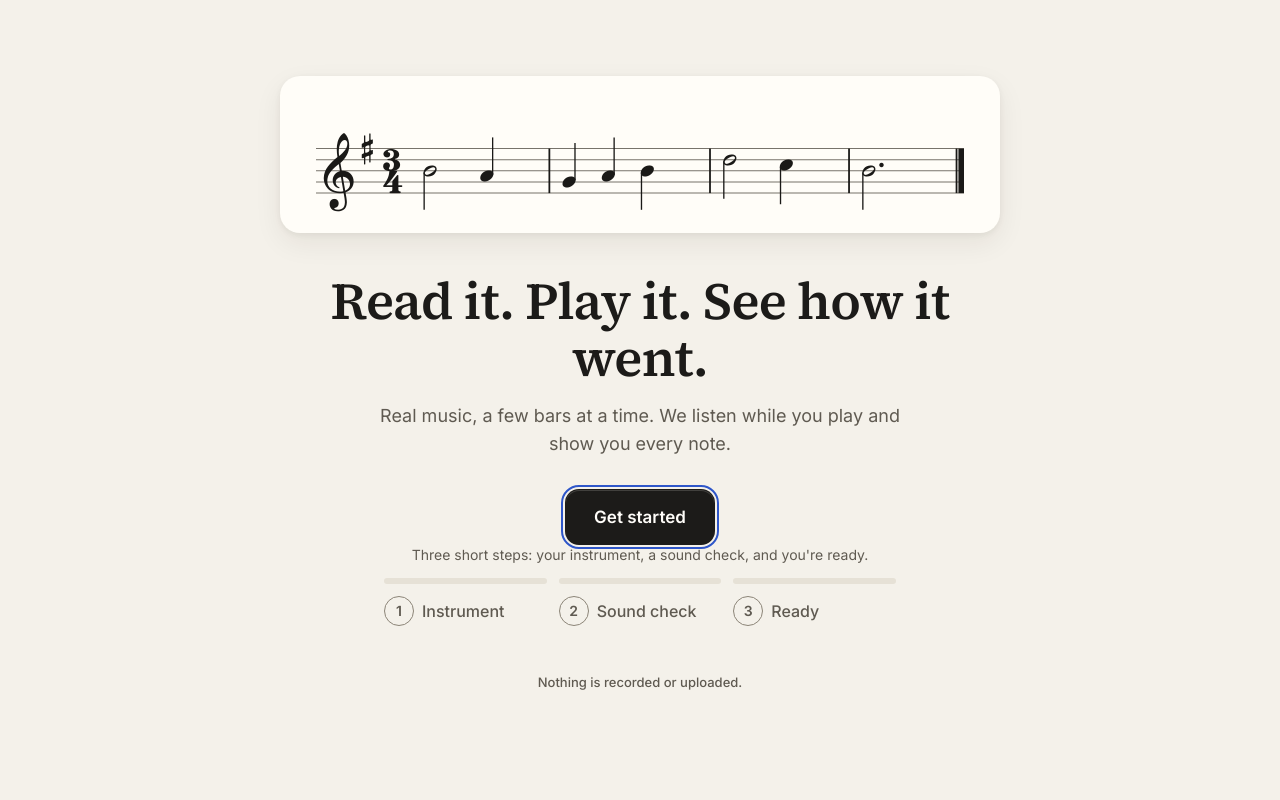
it: OnboardingScreen › walks Welcome, Instrument, Sound check (Microphone, Hear you, Timing) and Ready, and starts the first piece
Later steps or results of the test are not shown.
Click the button "Get started".
click(640, 518)  # box [565,490,715,546]
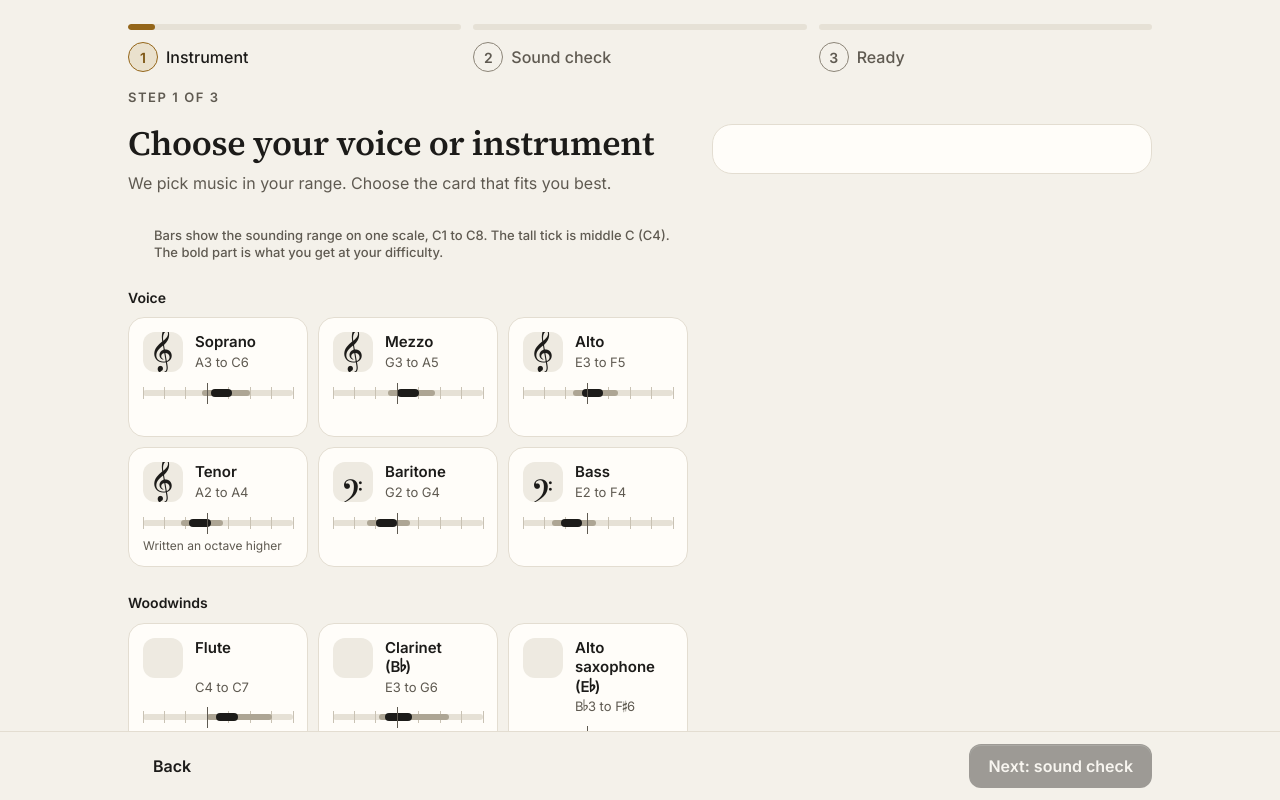
expect the list item "1 Instrument" is shown: met, box [128,24,461,72]
expect the text "Step 1 of 3" is shown: met, box [128,89,220,105]
expect the text "Choose your voice or instrument" is shown: met, box [128,124,688,163]
Click the radio button labelled "Baritone G2 to G4".
click(408, 507)  # box [318,447,498,567]
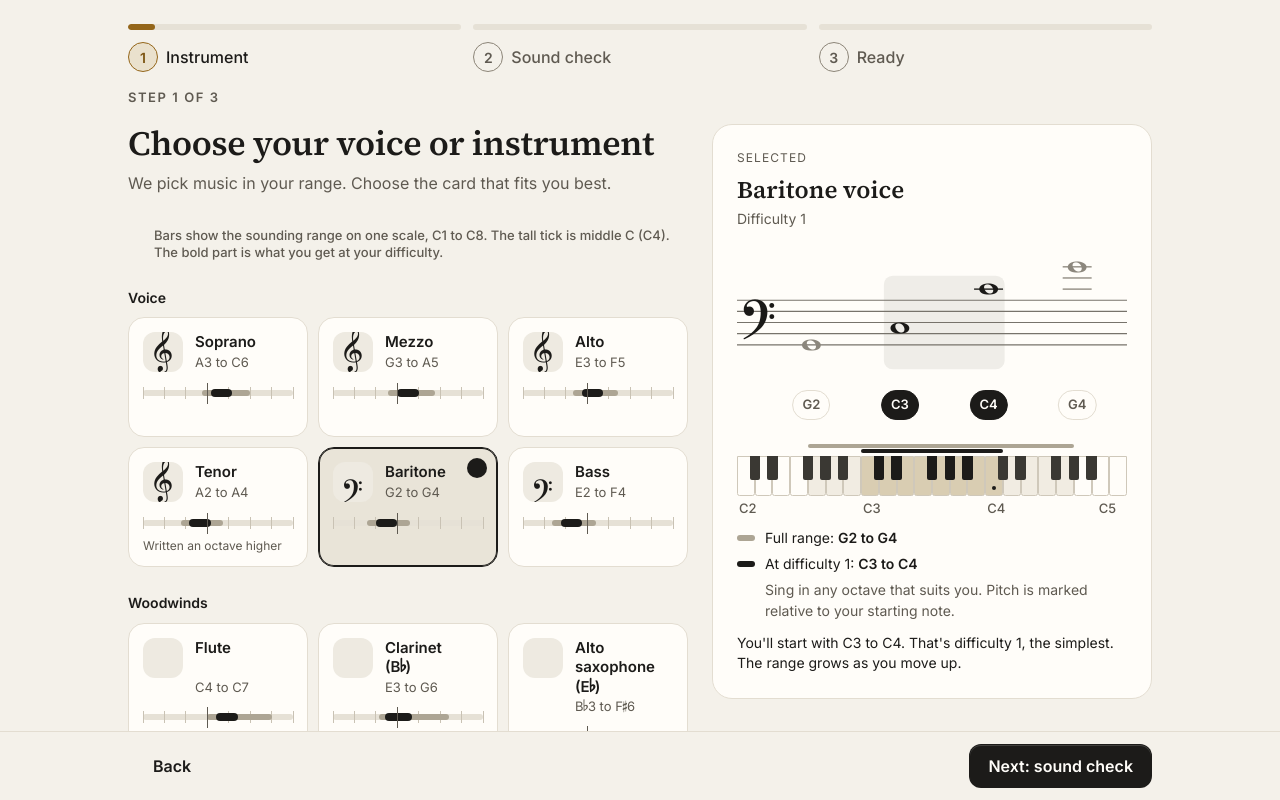
expect the button "Next: sound check" is shown: met
expect the text with test id "ob-start-line" shows "You'll start with C3 to C4. That's difficulty 1, the simplest. The range grows as you move up.": met, box [737,634,1114,671]
Click the button "Next: sound check".
click(1061, 766)  # box [969,744,1152,788]
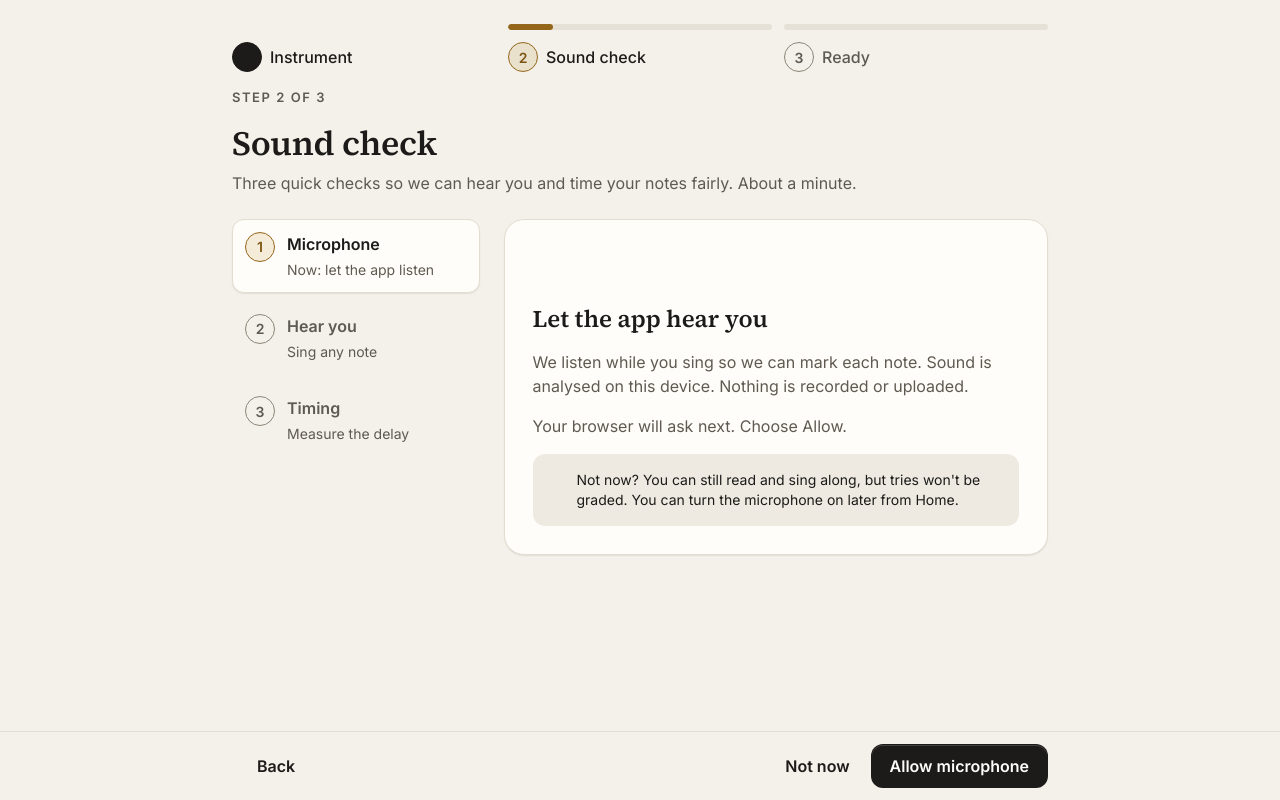
expect the text "Step 2 of 3" is shown: met, box [232,89,326,105]
expect the text "Your browser will ask next. Choose Allow." is shown: met, box [532,416,847,436]
expect the button "Allow microphone" is shown: met
Click the button "Allow microphone".
click(959, 766)  # box [871,744,1048,788]
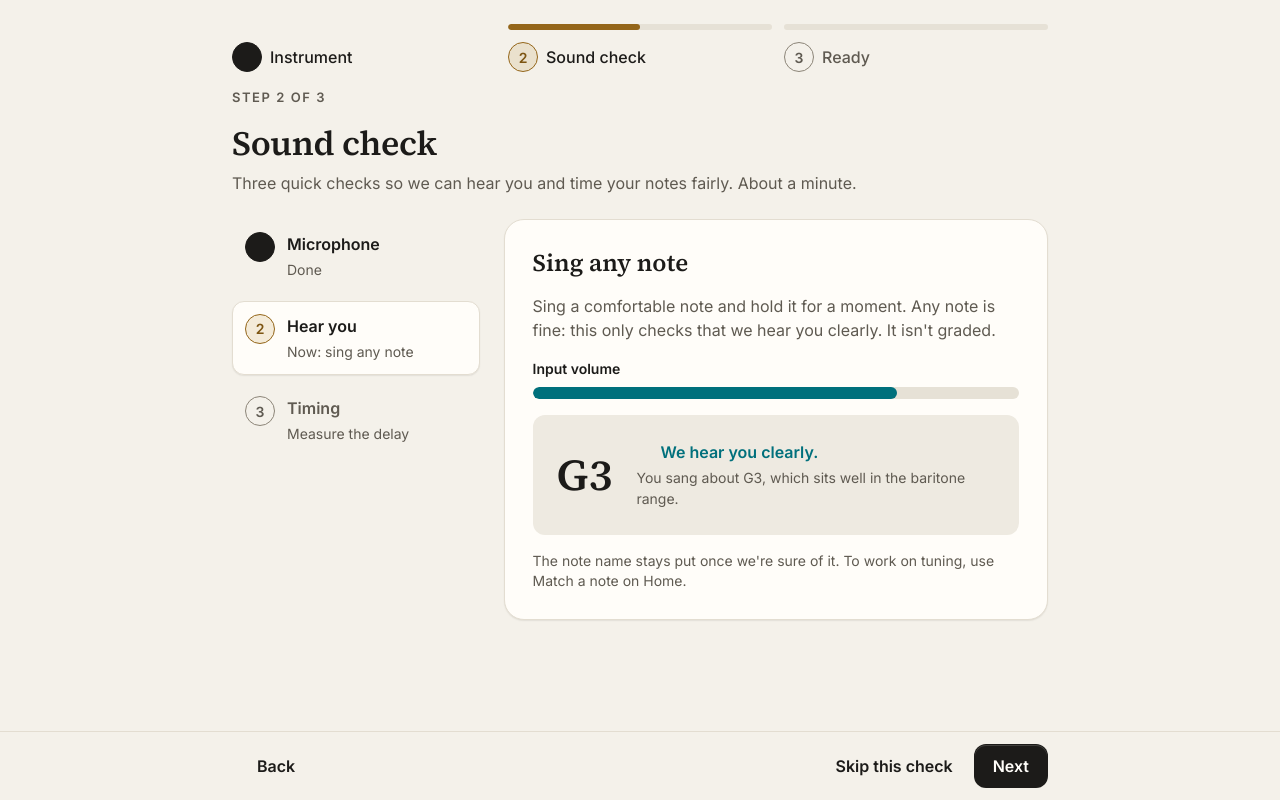
expect the text "sing any note" is shown: met, box [287,343,414,360]
expect the text with test id "ob-heard-note" reads "G3": met, box [556,444,612,505]
expect the text "We hear you clearly." is shown: met, box [532,296,996,340]
Click the button "Next".
click(1011, 766)  # box [974,744,1048,788]
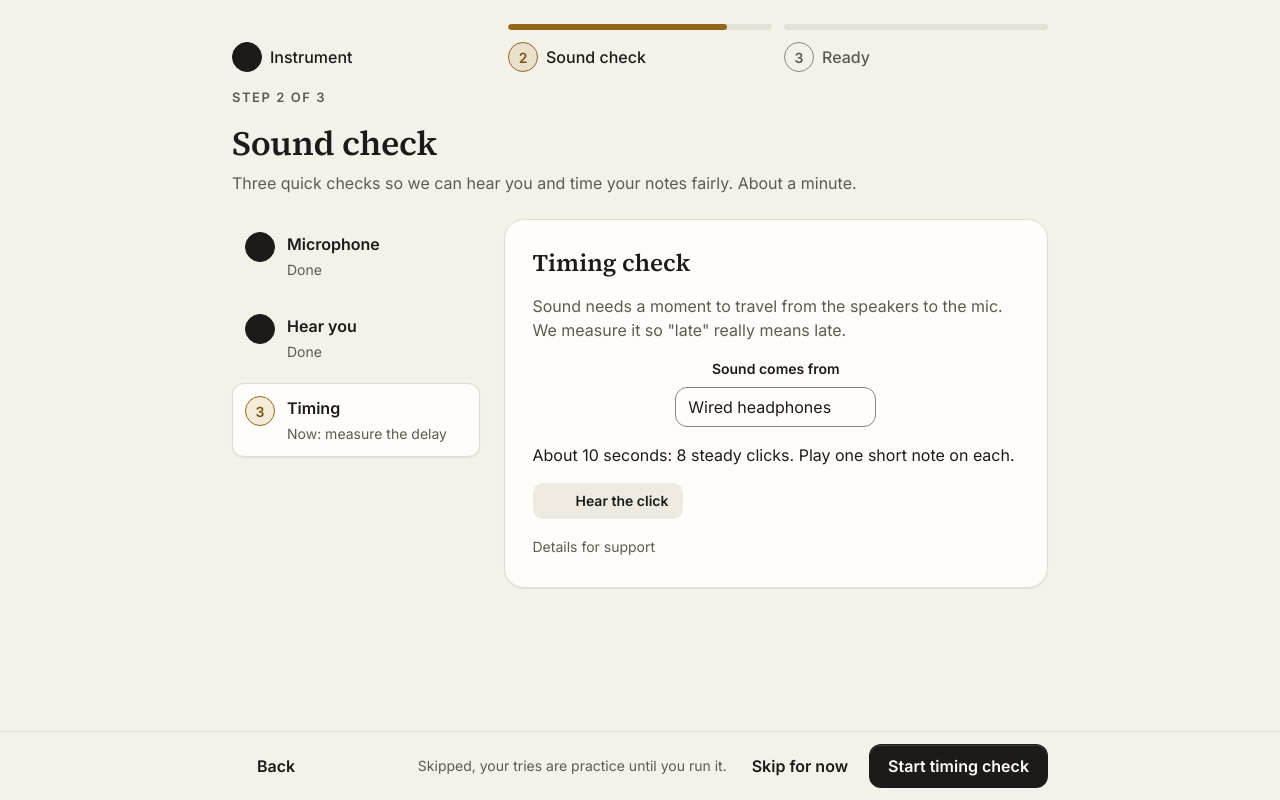
expect the text "Sound comes from" is shown: met, box [712,358,840,379]
expect the text "Skipped, your tries are practice until you run it." is shown: met, box [418,757,727,774]
Click the button "Skip for now".
click(800, 766)  # box [743,744,857,788]
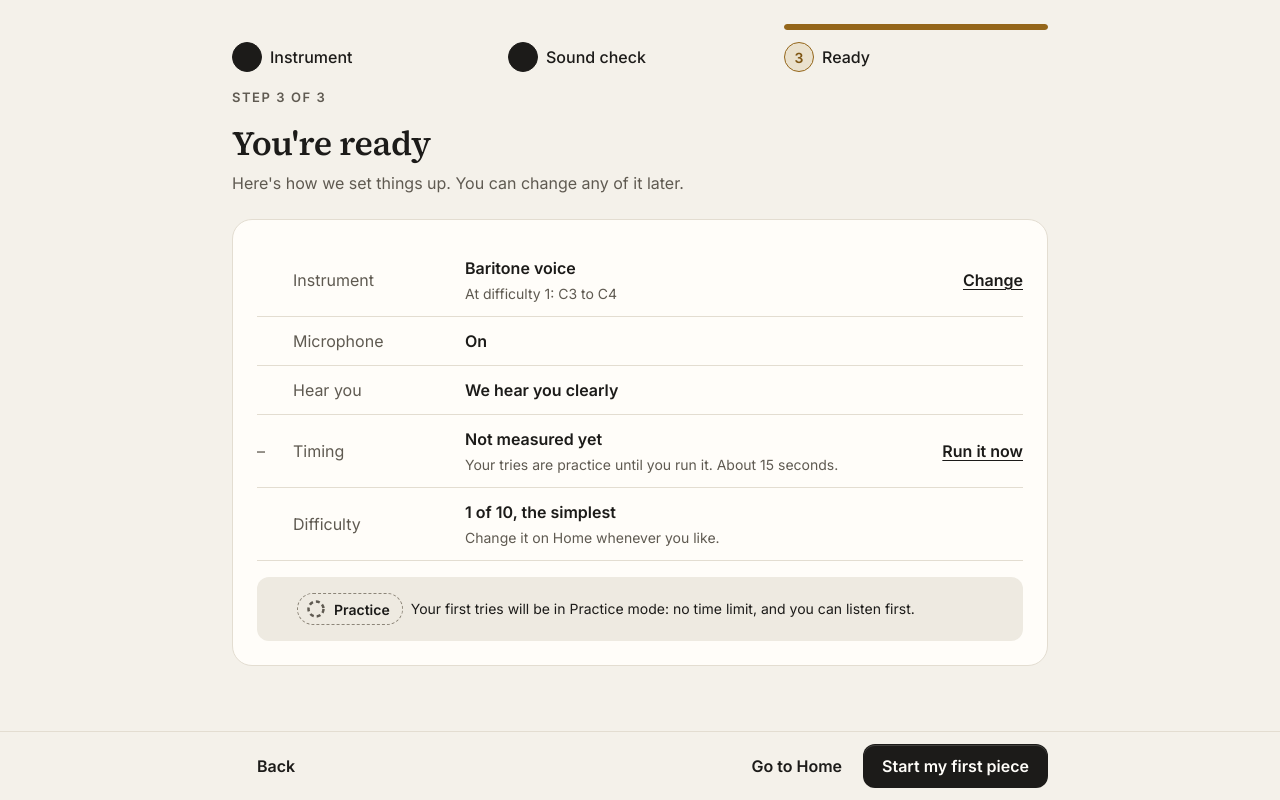
expect the text "Step 3 of 3" is shown: met, box [232,89,326,105]
expect the list item "Hear you We hear you clearly" is shown: met, box [257,366,1023,415]
expect the list item that starts with "Timing" shows "Not measured yet": met, box [465,429,602,449]
